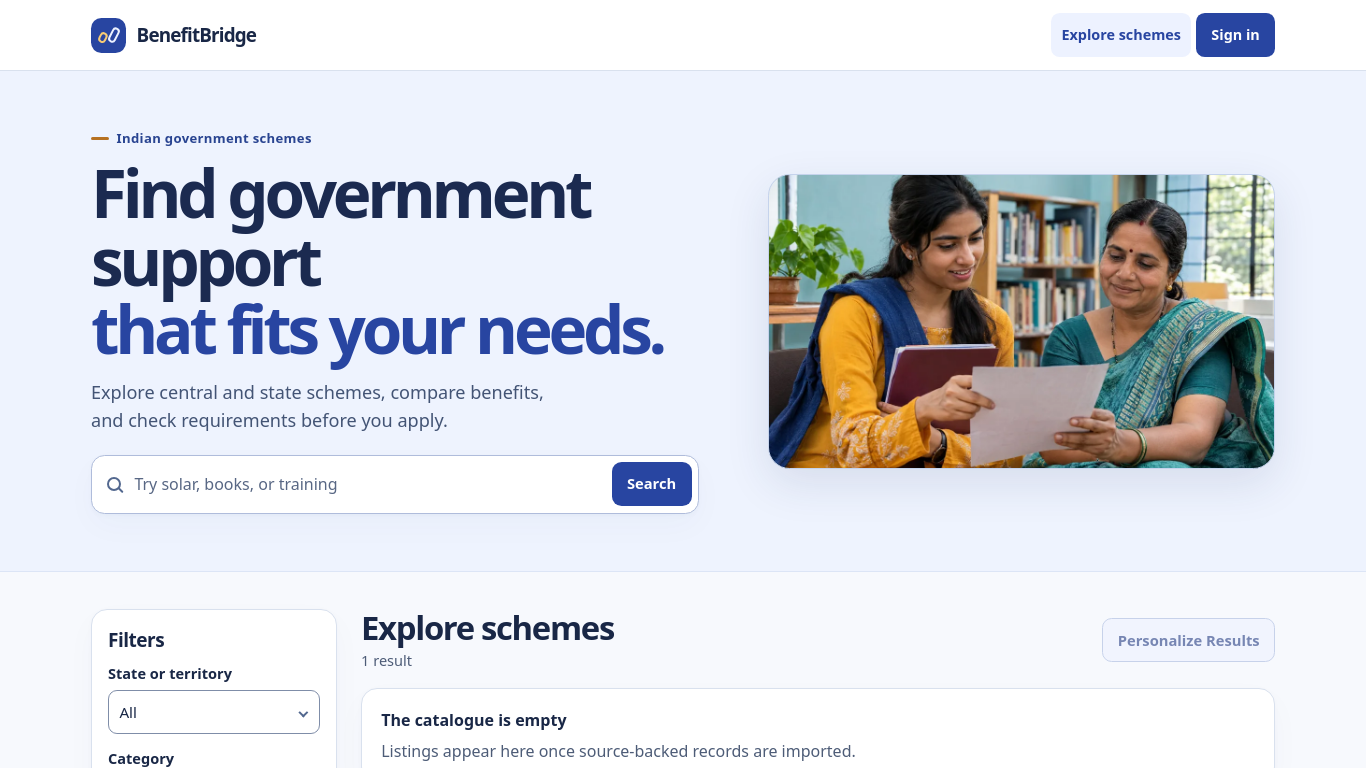
submits a goal search, opens the detail page, and returns to the search
Type "solar" into the search field named "Search schemes". click: (366, 484)
box: 129,462 -> 604,506
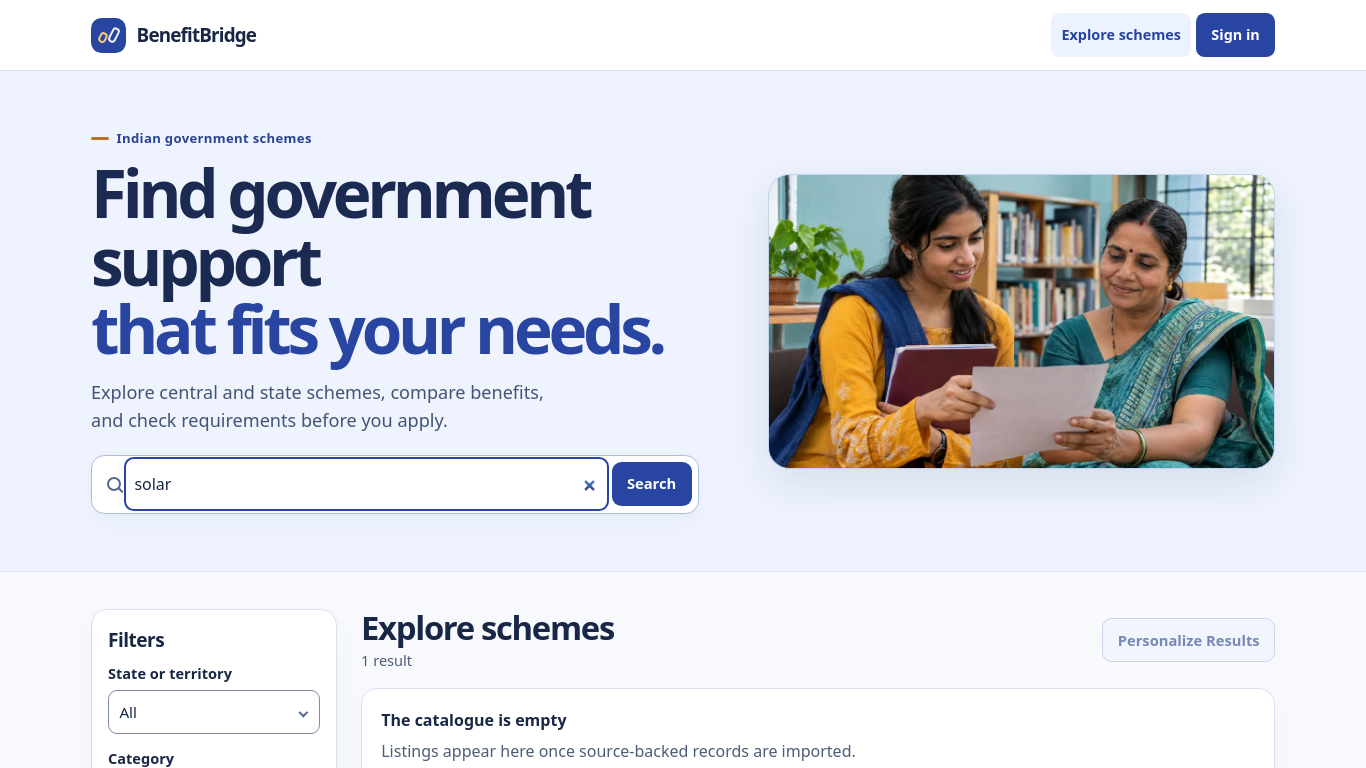
Click the button "Search". click: click(652, 484)
box: 612,462 -> 692,506
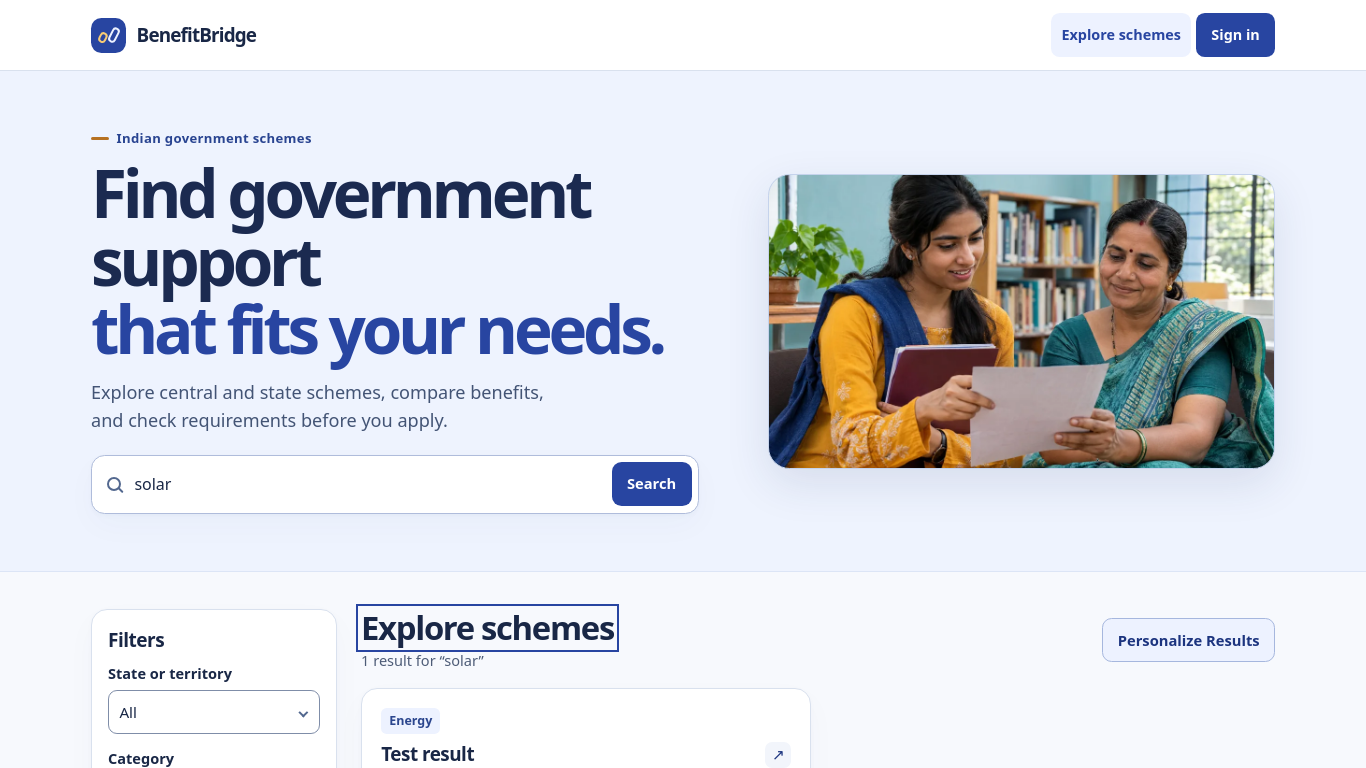
Select "Maharashtra" in the dropdown labelled "State or territory". click: (214, 712)
box: 108,690 -> 320,734
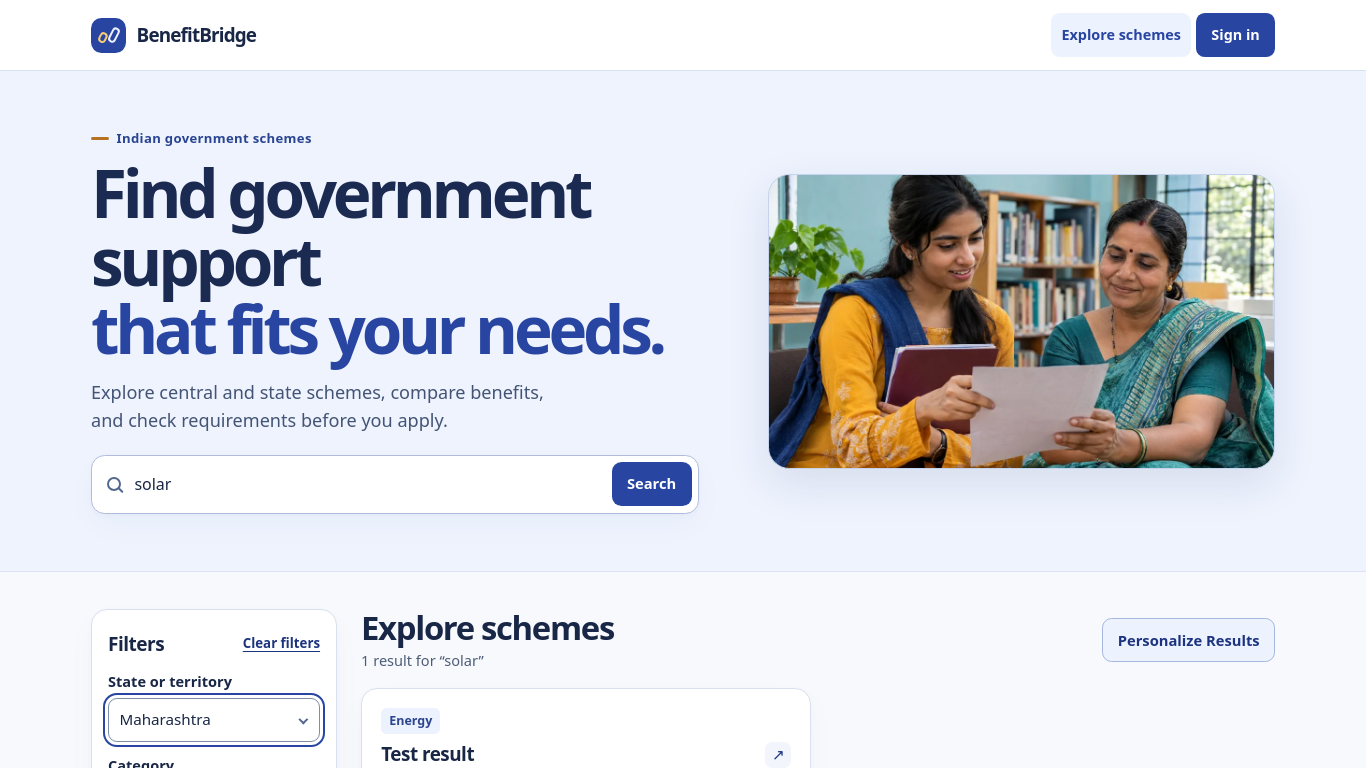
Click the link "Test result". click: click(428, 754)
box: 381,743 -> 791,767
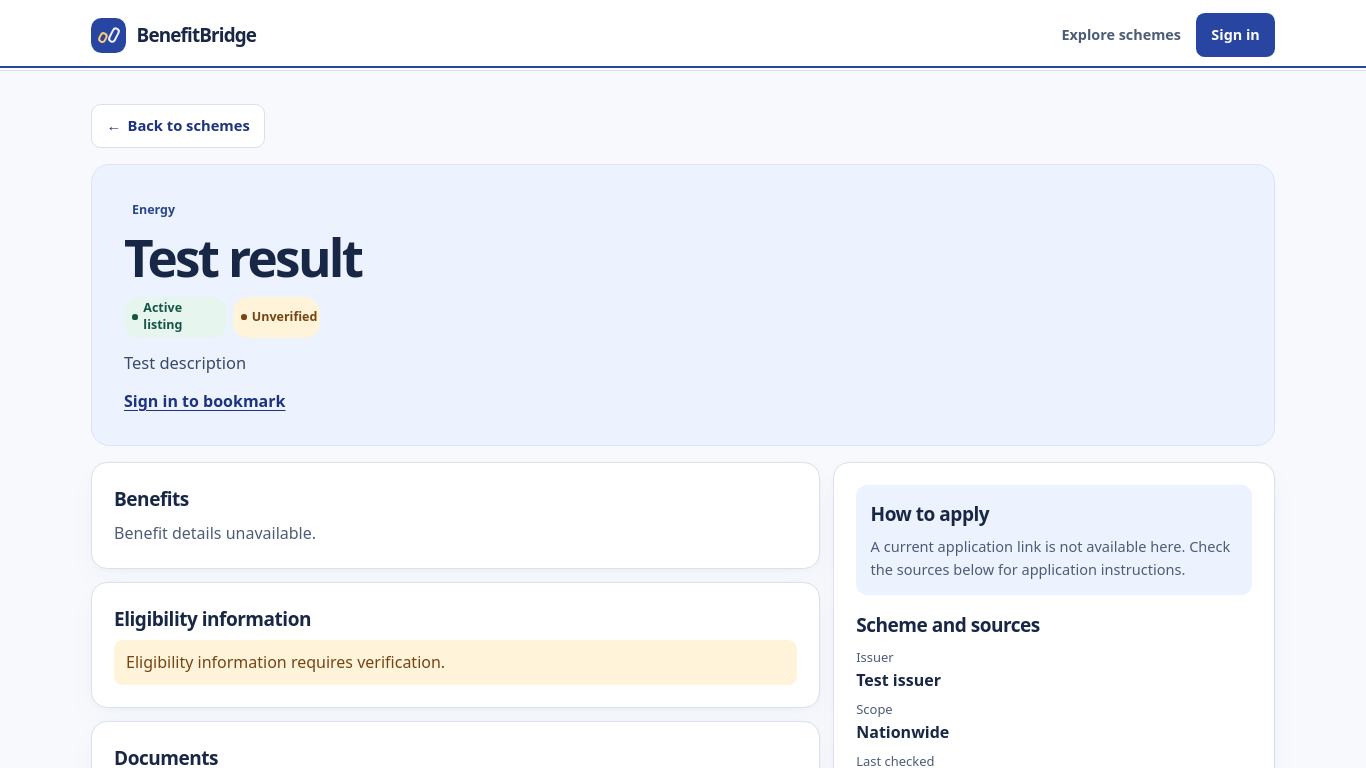
Now the heading "Test result" is shown, box 124,222 -> 361,292
Click the link "← Back to schemes". click: click(178, 126)
box: 91,104 -> 265,148
(page scrolled)
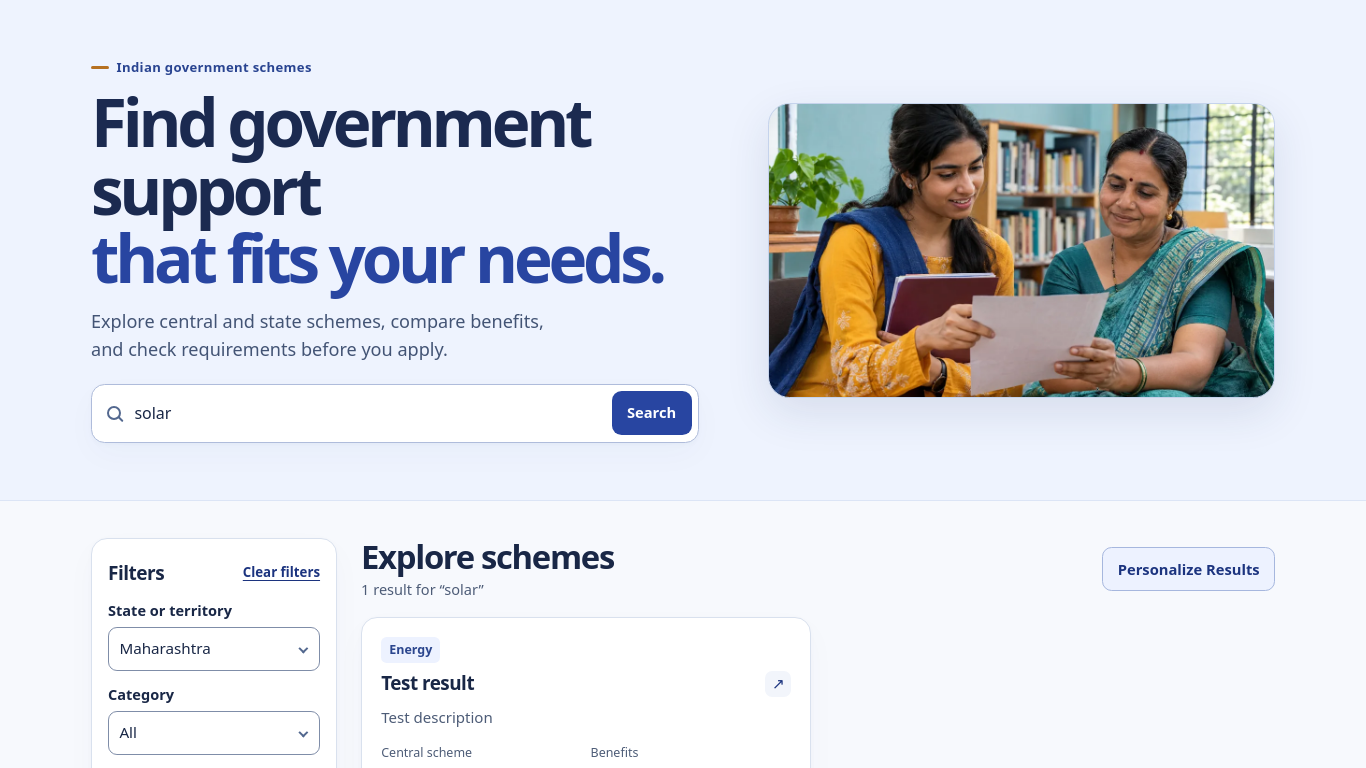
Now the link "Test result" is shown, box 381,672 -> 791,697
Now the search field holds "solar", box 129,391 -> 604,435
Now the dropdown labelled "State or territory" shows "Maharashtra", box 108,626 -> 320,670
